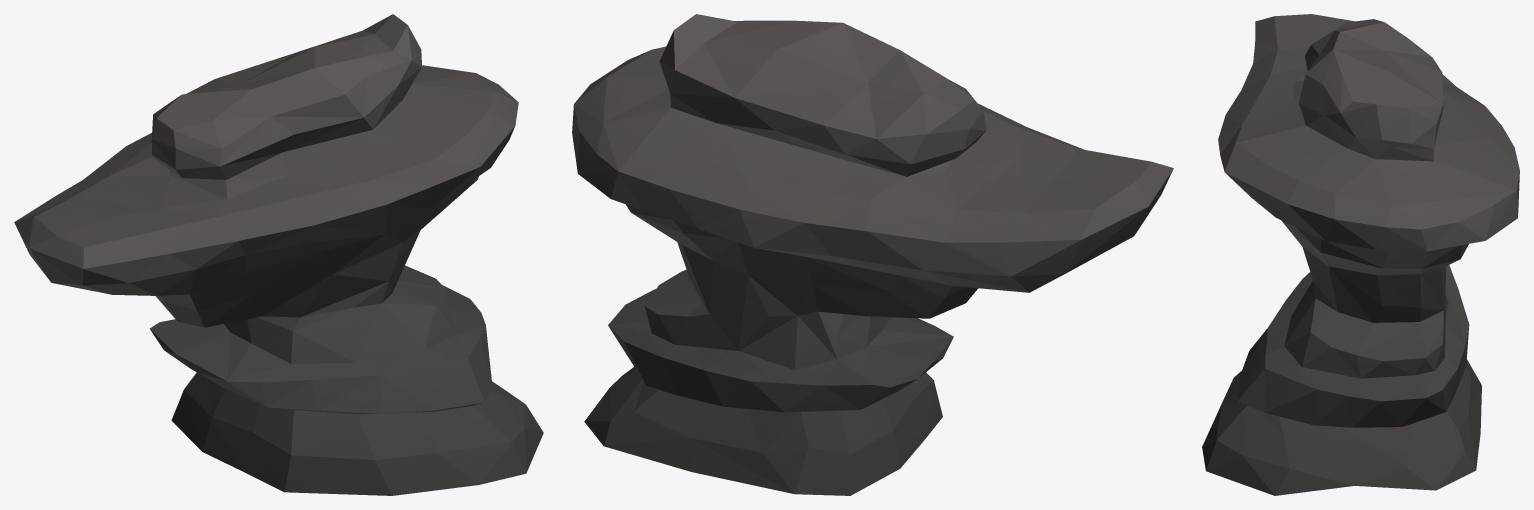
The model's file is ZLP_Rock_D_10.FBX.
The picture shows the model from 3 angles, left to right: view 1: azimuth 30°, elevation 25°; view 2: azimuth 150°, elevation 25°; view 3: azimuth 270°, elevation 25°; orthographic projection. The views are drawn at different scales.
Parts seen in each view (by area): view 1: ZLP_Rock_D_10; view 2: ZLP_Rock_D_10; view 3: ZLP_Rock_D_10.
Boxes of the visible parts, x1,y1,x2,y2 form: ZLP_Rock_D_10: [14, 14, 543, 495]; ZLP_Rock_D_10: [572, 14, 1173, 495]; ZLP_Rock_D_10: [1202, 14, 1519, 495].
Bounding box in the file's own units: 241 × 179 × 144.
